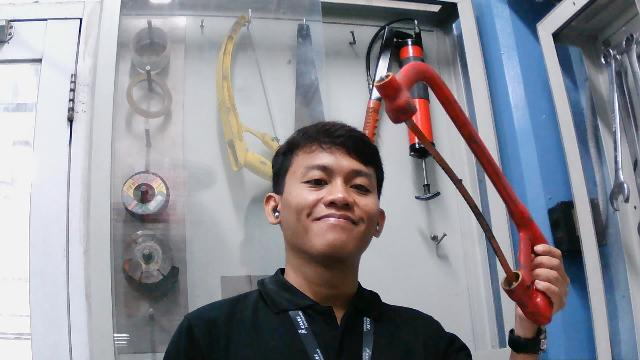gergaji_besi: (373, 59, 571, 326)
